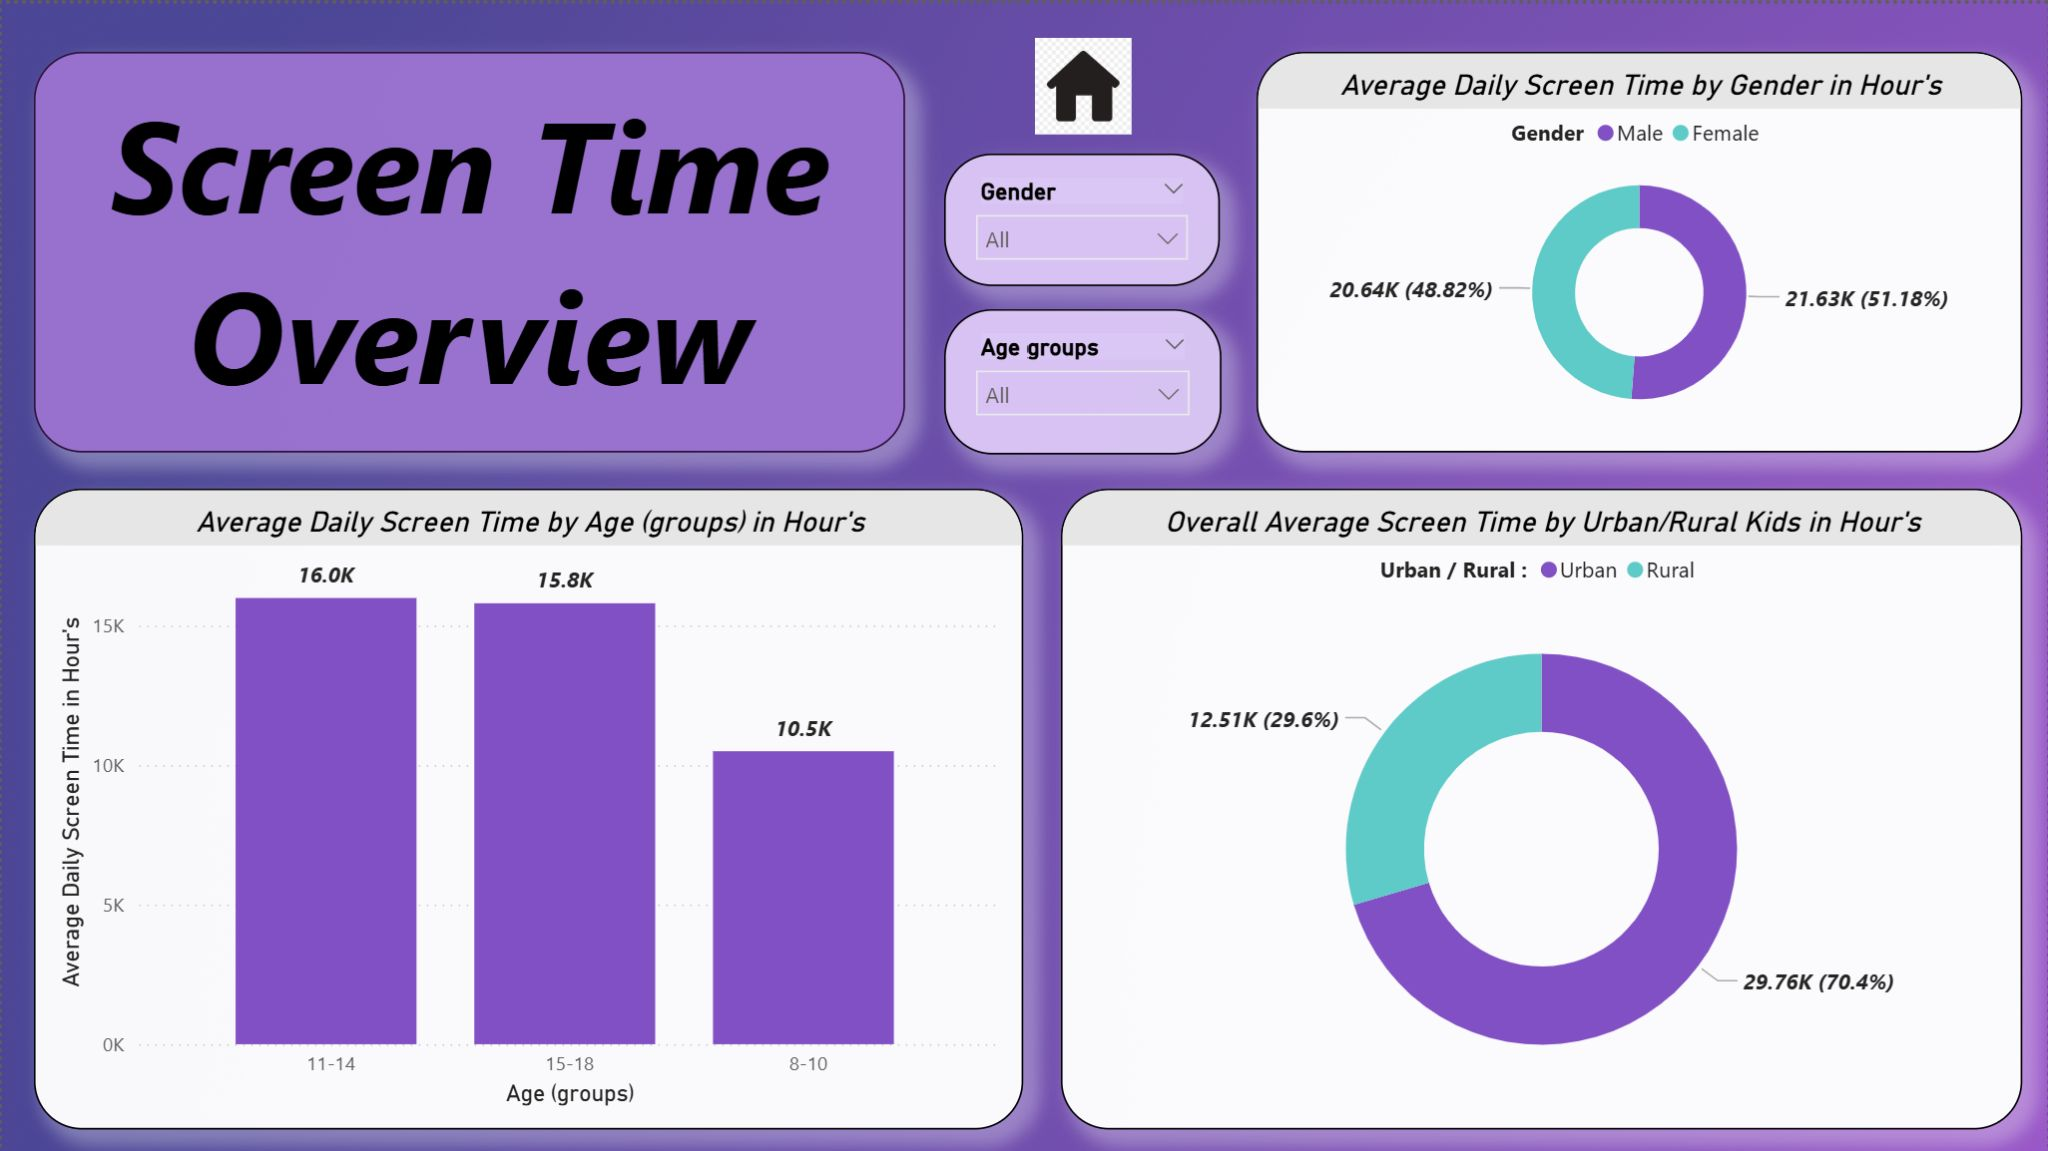

The page's visual inventory and layout, read from the dashboard file:
{"tool":"powerbi","page":{"name":"Screen Time Overview","canvas":[1280,720],"ordinal":1},"visuals":[{"type":"columnChart","title":"Average Daily Screen Time by Age (groups) in Hour''s","fields":{"Category":["Indian_Kids_Screen_Time.Age (groups)"],"Y":["Sum(Indian_Kids_Screen_Time.Avg_Daily_Screen_Time_hr)"]},"box":[20.4,303.4,619.6,401.6],"z":0},{"type":"pieChart","title":"Average Daily Screen Time by Gender in Hour''s","fields":{"Category":["Indian_Kids_Screen_Time.Gender"],"Y":["Sum(Indian_Kids_Screen_Time.Avg_Daily_Screen_Time_hr)"]},"box":[785.3,30.6,479.4,251.2],"z":1000},{"type":"donutChart","title":"Overall Average Screen Time by Urban/Rural Kids in Hour''s","fields":{"Category":["Indian_Kids_Screen_Time.Urban_or_Rural"],"Y":["Sum(Indian_Kids_Screen_Time.Avg_Daily_Screen_Time_hr)"]},"box":[662.9,303.4,601.8,401.6],"z":2000},{"type":"slicer","fields":{"Values":["Indian_Kids_Screen_Time.Age (groups)"]},"box":[589.8,191.2,172.8,91],"z":3000},{"type":"slicer","fields":{"Values":["Indian_Kids_Screen_Time.Gender"]},"box":[590.3,94.3,172.1,82.9],"z":4000},{"type":"textbox","box":[20.4,30.6,545.7,251.2],"z":5000},{"type":"image","box":[633.6,16.1,85.2,70.3],"z":6000}]}

Visuals, with their boxes in screenshot pixels (x1, y1, x2, y2), scaled from the page's 1280x720 canvas onto the 2048x1151 screenshot:
"Average Daily Screen Time by Age (groups) in Hour''s" columnChart: region(33, 485, 1024, 1127)
"Average Daily Screen Time by Gender in Hour''s" pieChart: region(1256, 49, 2024, 450)
"Overall Average Screen Time by Urban/Rural Kids in Hour''s" donutChart: region(1061, 485, 2024, 1127)
slicer - Indian_Kids_Screen_Time.Age (groups): region(944, 306, 1220, 451)
slicer - Indian_Kids_Screen_Time.Gender: region(944, 151, 1220, 283)
textbox: region(33, 49, 906, 450)
image: region(1014, 26, 1150, 138)
